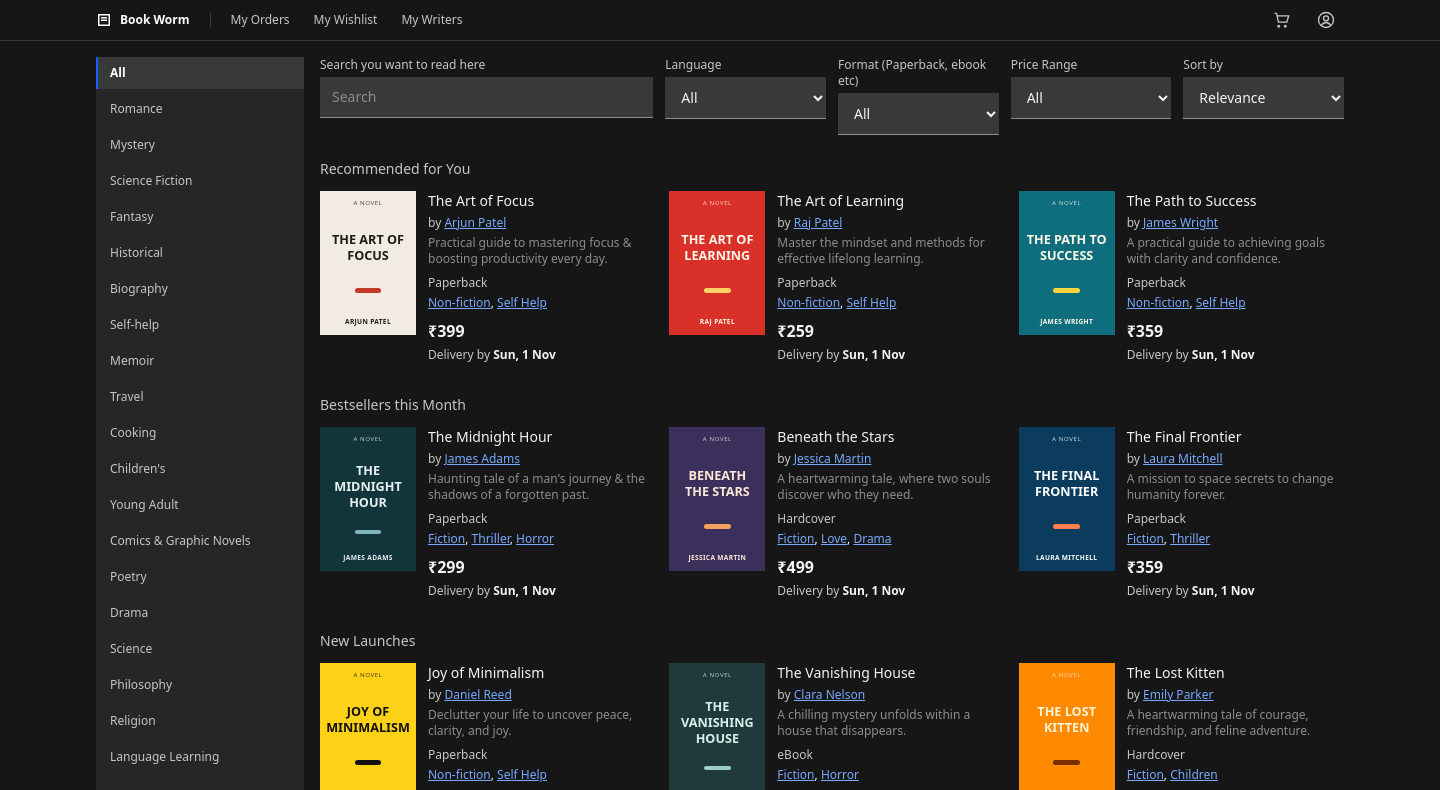
Test case: App flows › filters by category from the sidebar
Expected: the heading "Recommended for You" is shown, [320, 159, 470, 178]
Click the button "Romance".
click(200, 109)  # box [96, 93, 304, 125]
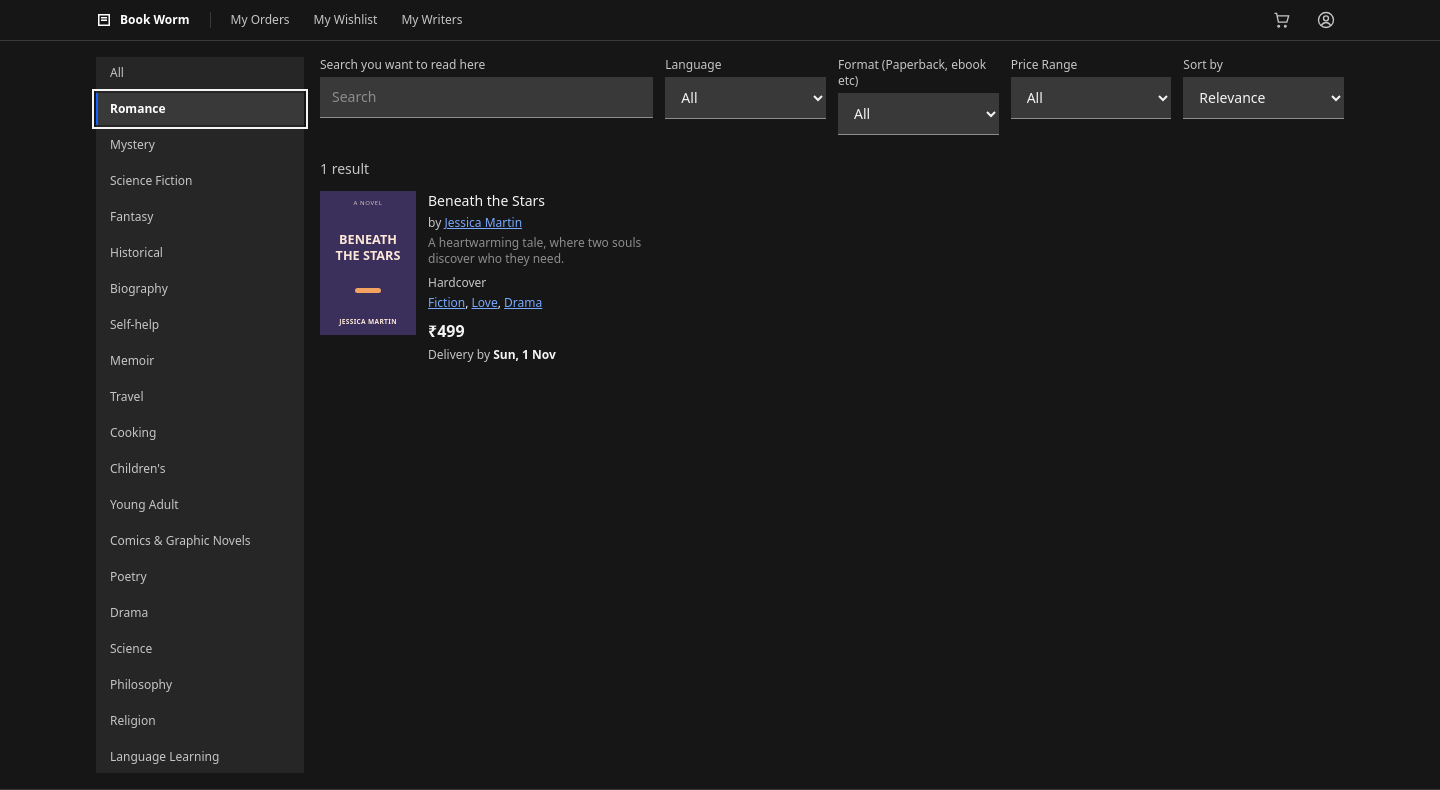
Expected: the link "Beneath the Stars" is shown, [428, 191, 545, 210]
Expected: the link "The Lost Kitten" is gone
